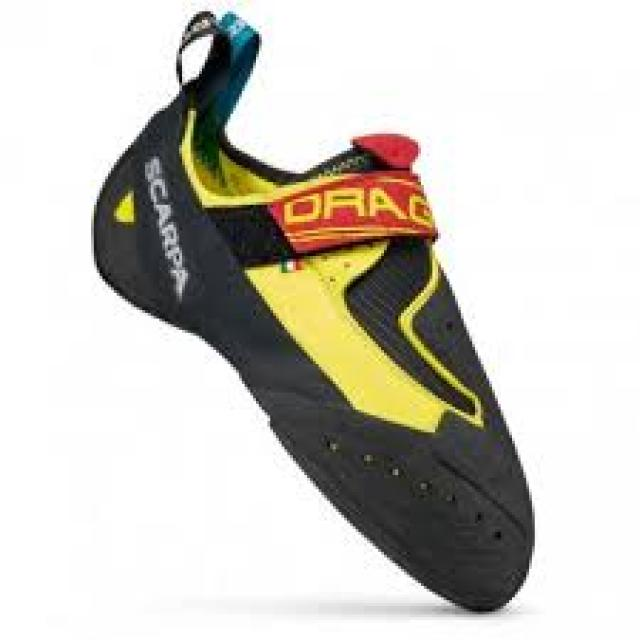climbing-shoes: (90, 3, 539, 617)
